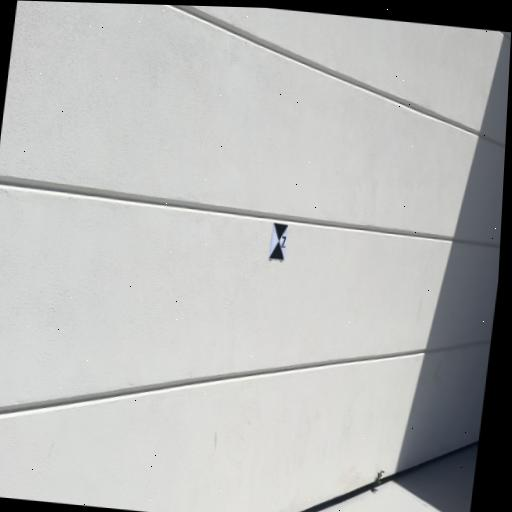target7: (268, 222, 290, 261)
